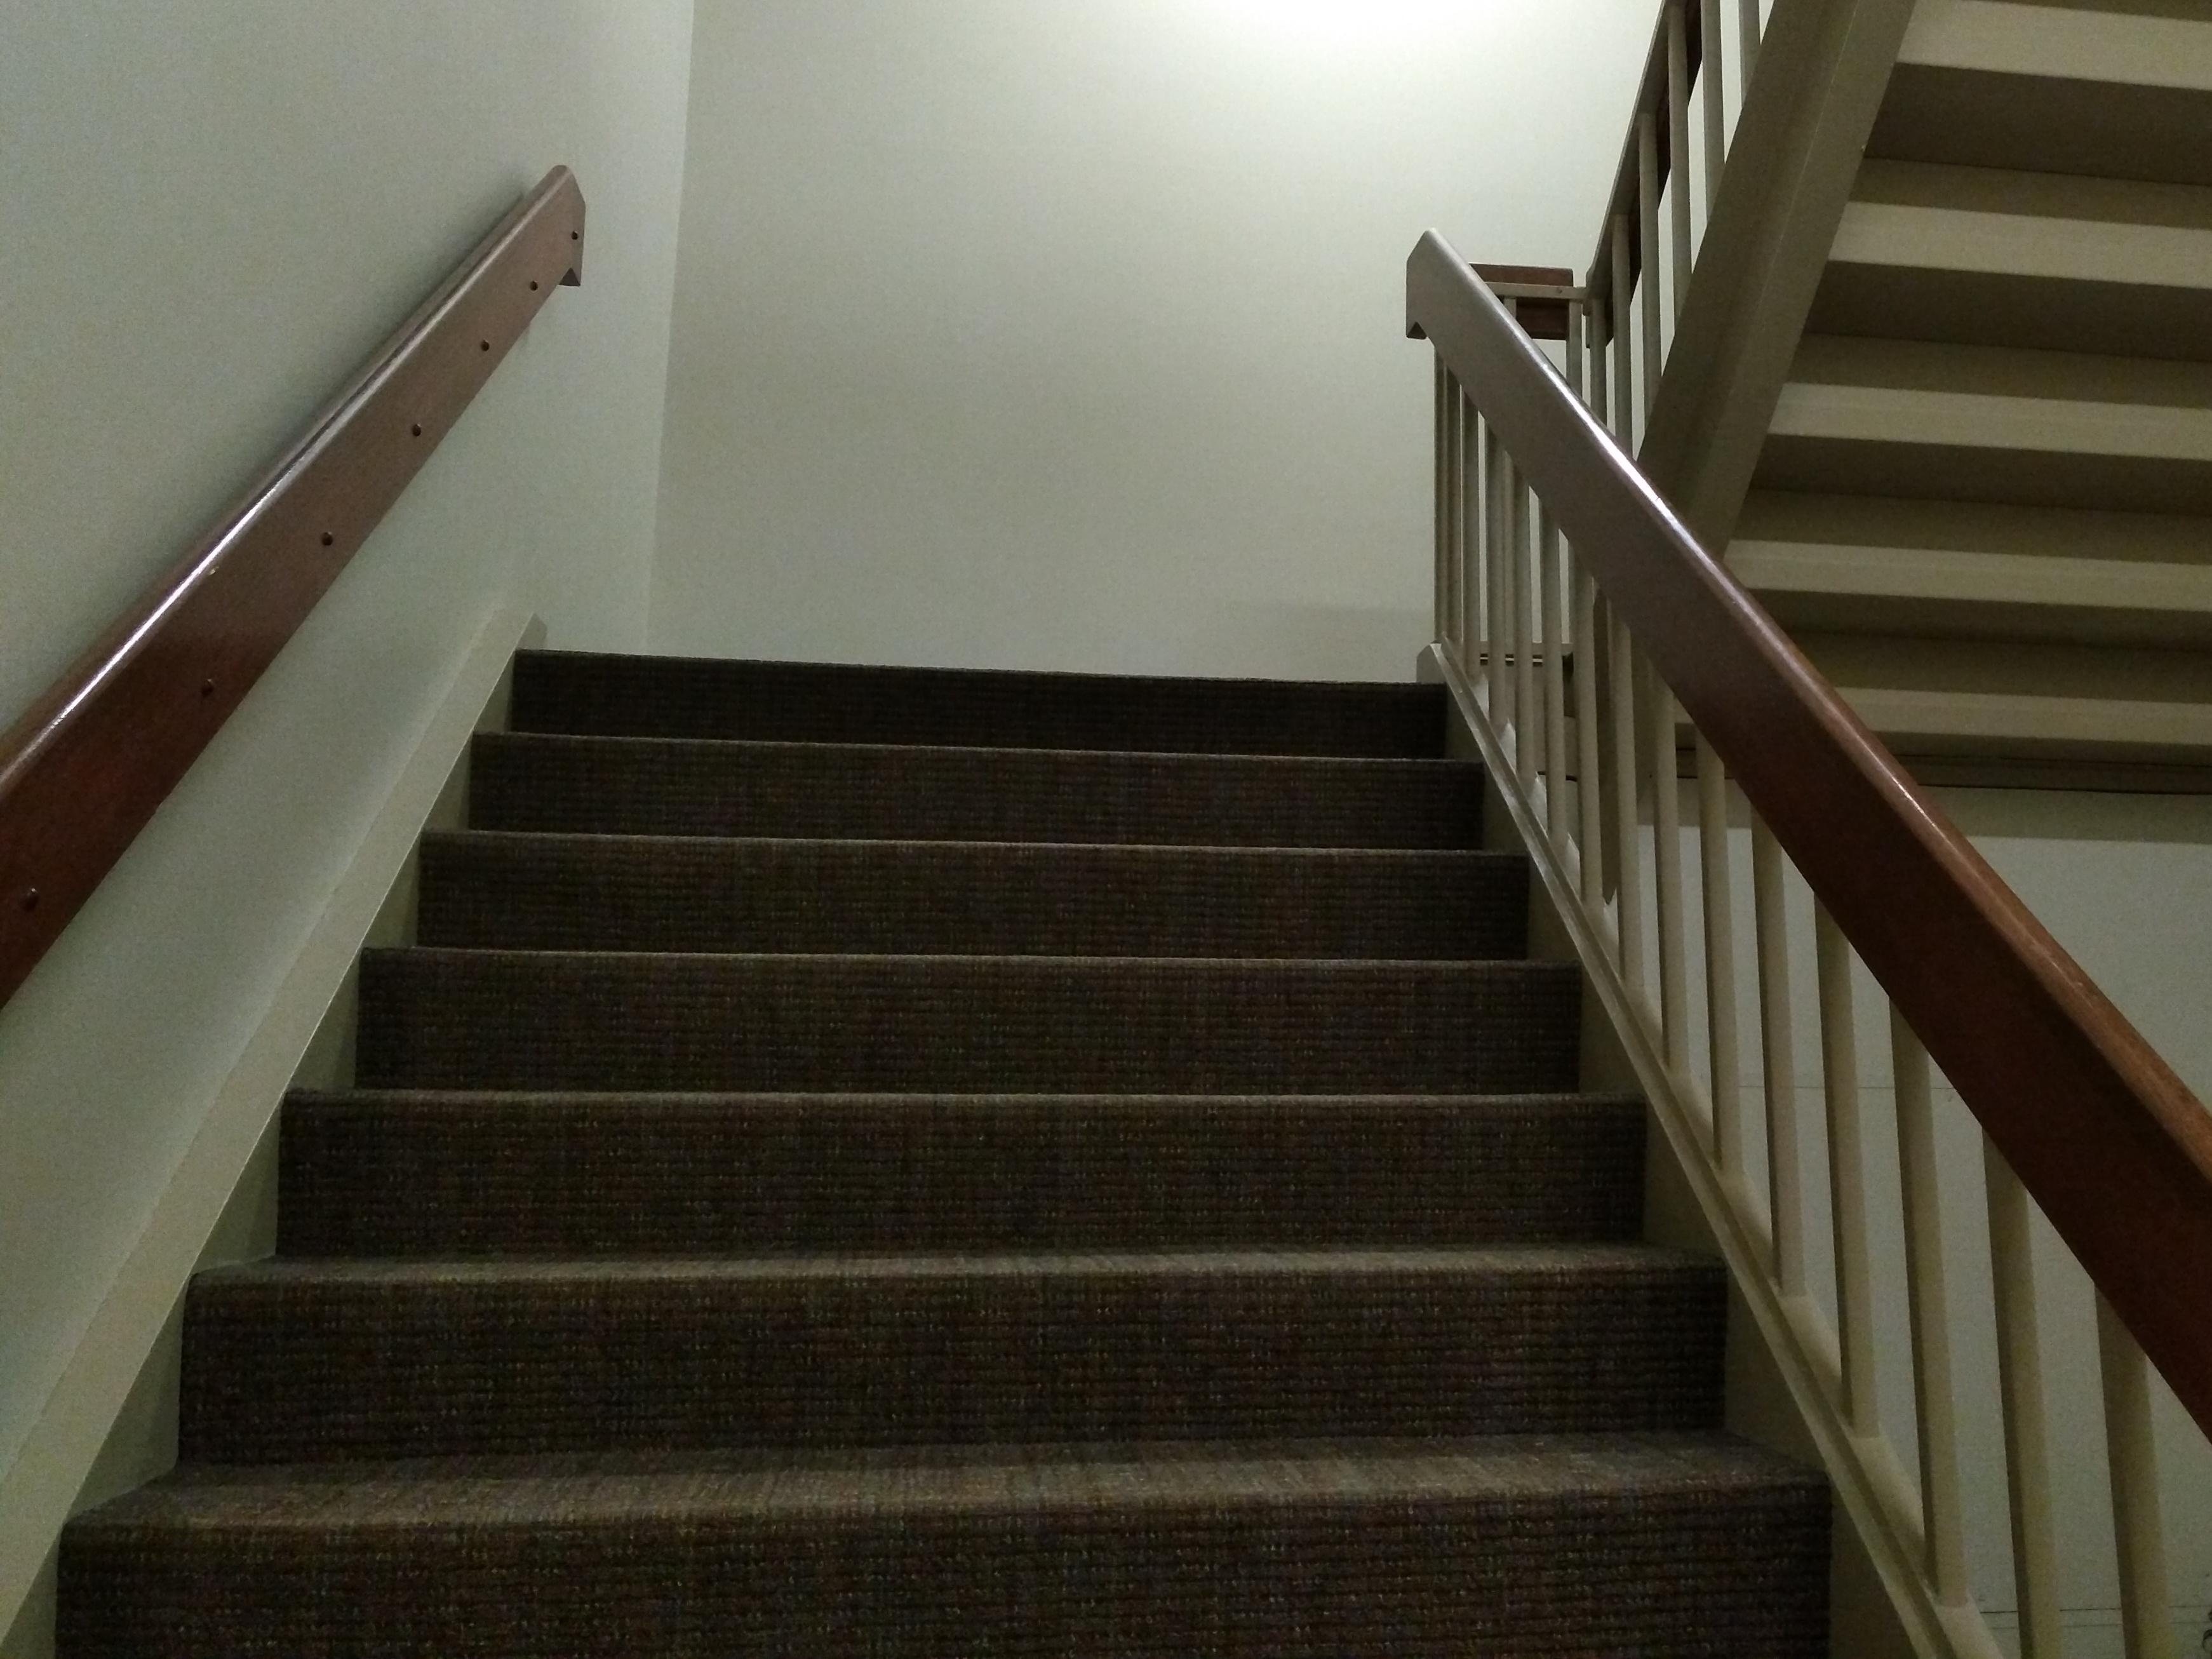stairs_up: (78, 631, 1846, 1659)
